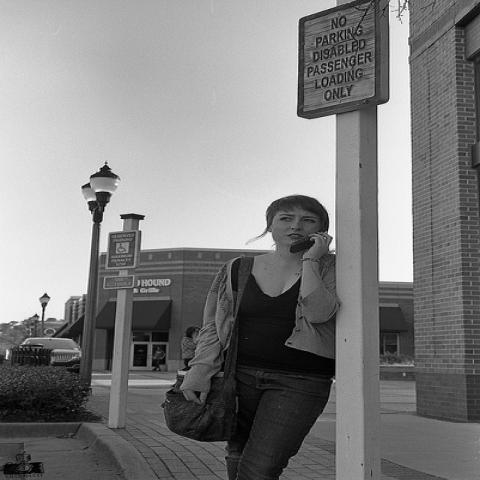car: (22, 338, 82, 367)
